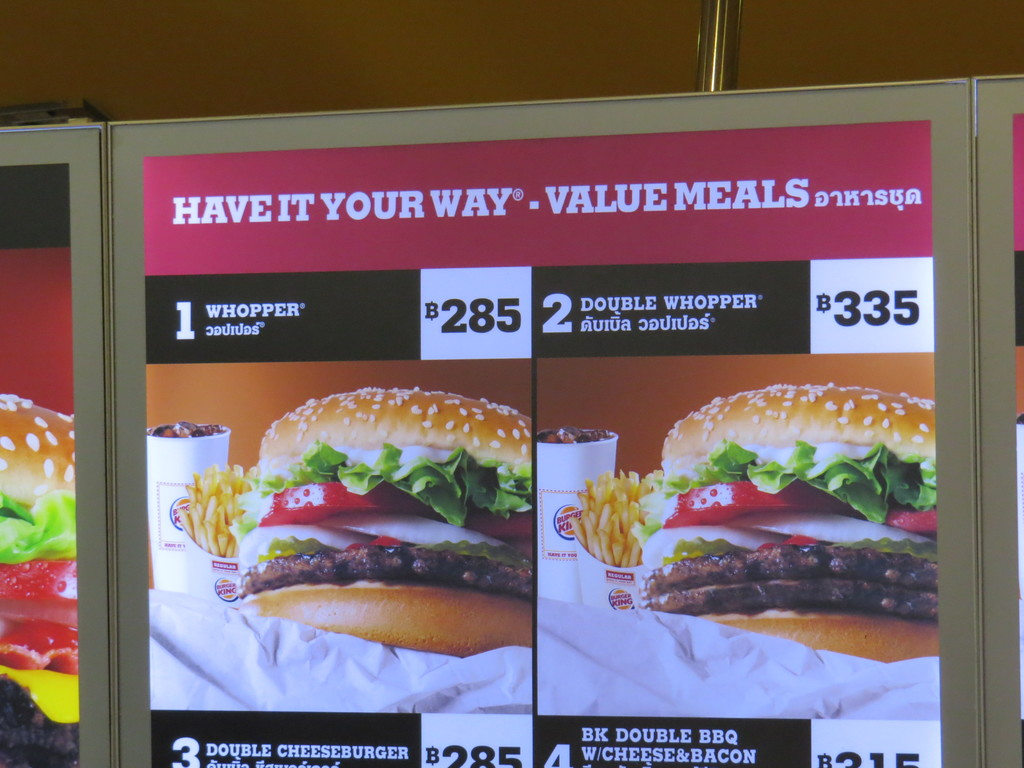Hamburger: (632, 384, 940, 663), (233, 388, 535, 658), (0, 392, 74, 767)
